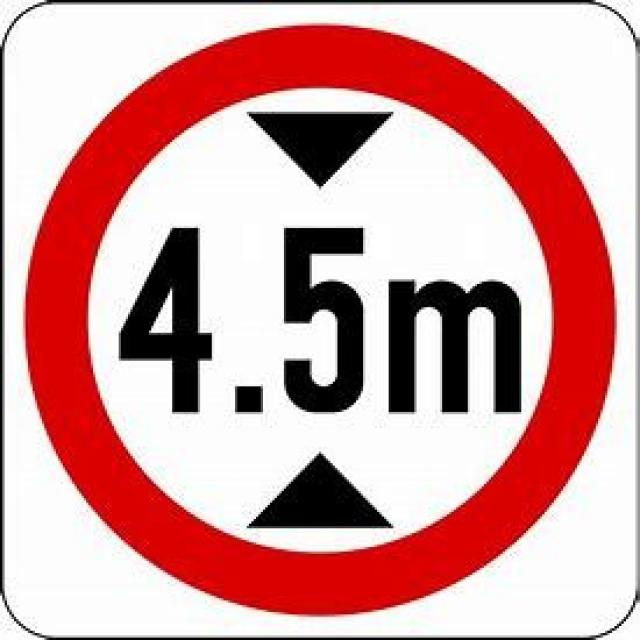HEIGHT_LIMIT: (26, 21, 614, 614)
